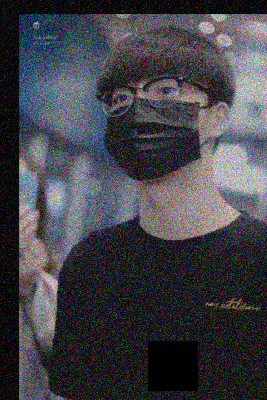with_mask: (103, 68, 218, 181)
